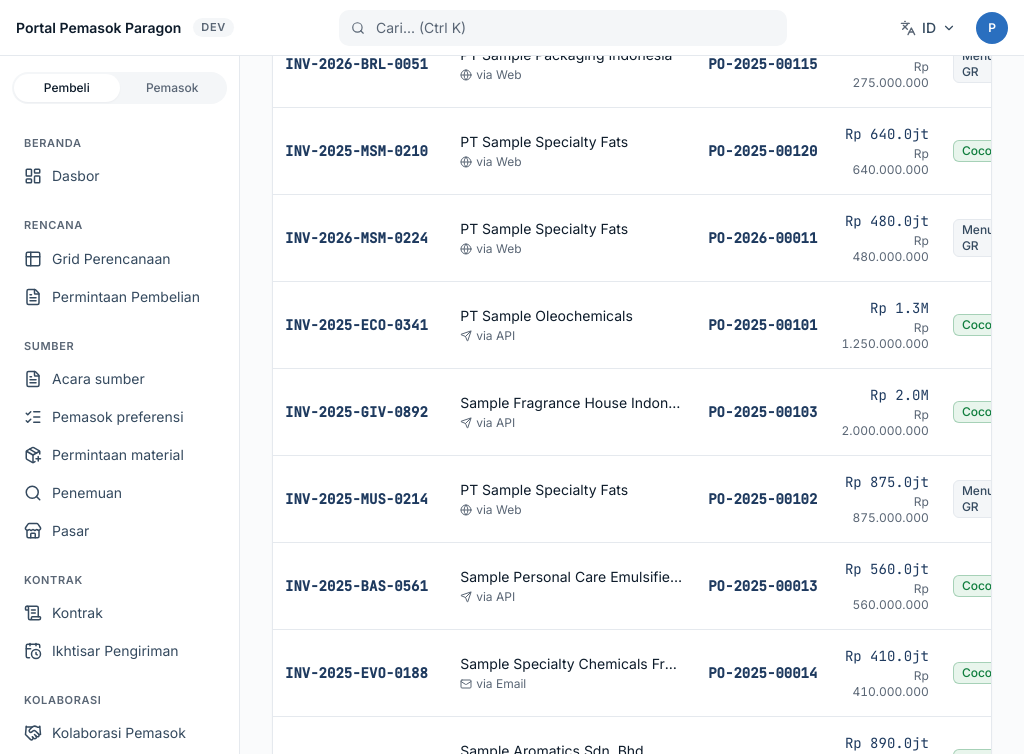
it: THE WAIT IS TRANSLATED — the constraint holds in Indonesian › renders "Menunggu Keuangan", not an English passthrough
(page scrolled)
Click the text "INV-2025-GIV-0892". click: point(361, 412)
box: [285, 402, 436, 422]
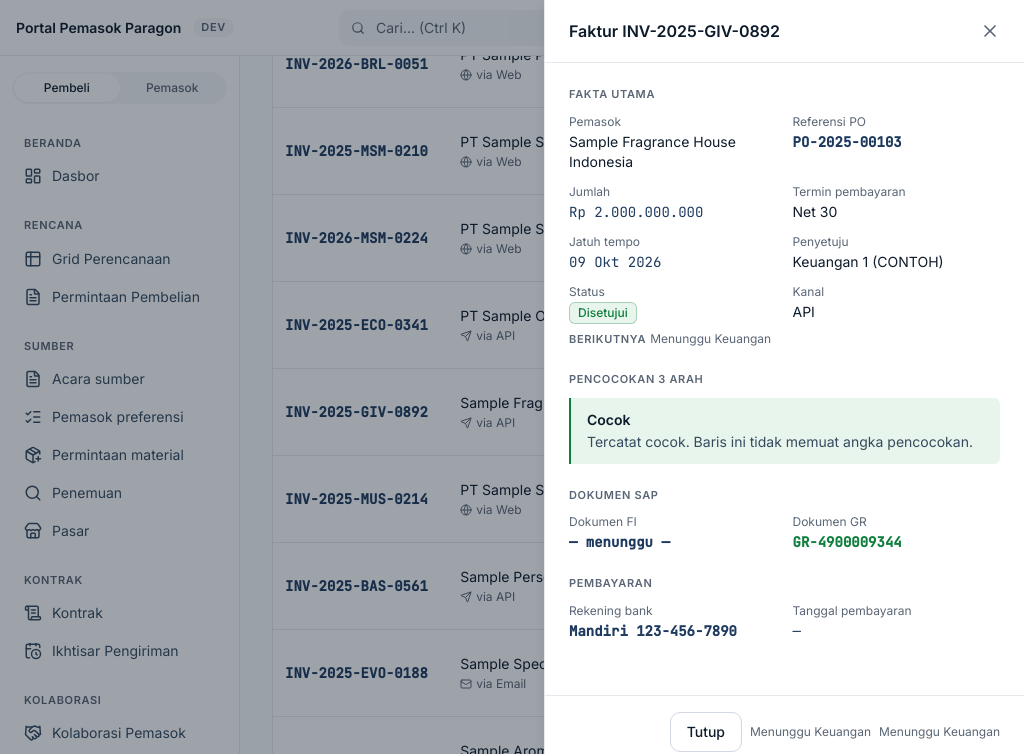
Expected: the text with test id "handoff-commit" does not show "Awaiting", [879, 724, 1000, 740]
Expected: the text with test id "handoff-commit" shows "Menunggu", [879, 724, 1000, 739]
Expected: the text with test id "handoff-commit" shows "Keuangan", [879, 724, 1000, 739]
